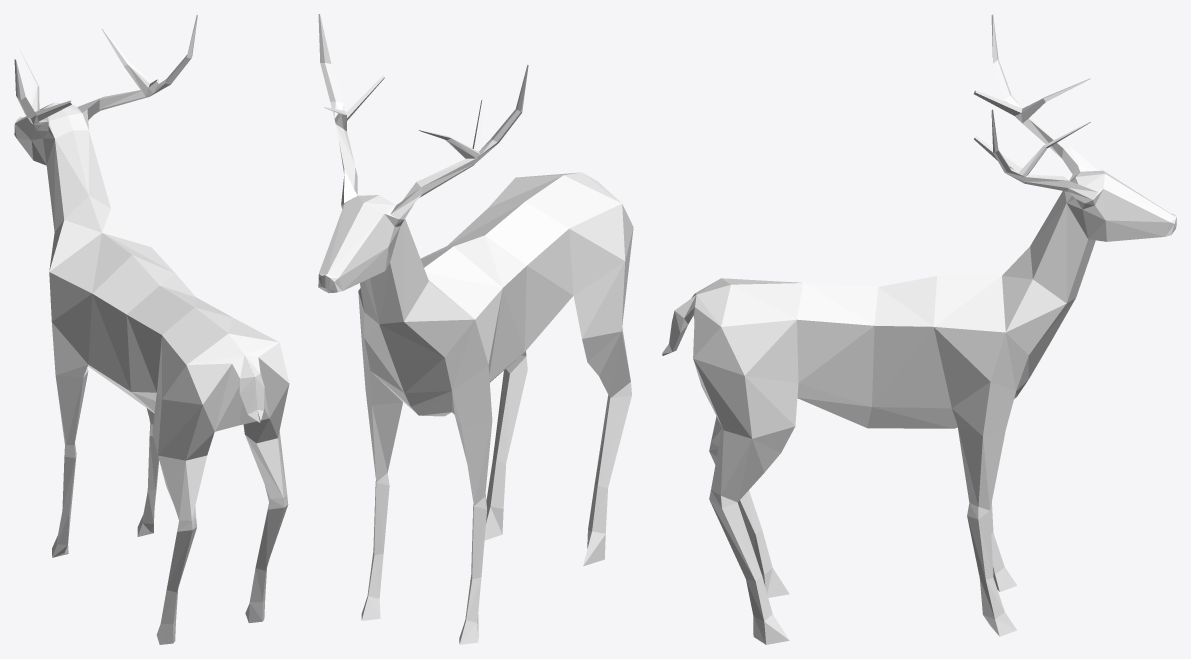
The model's file is Deer.FBX.
The picture shows the model from 3 angles, left to right: view 1: azimuth 30°, elevation 25°; view 2: azimuth 150°, elevation 25°; view 3: azimuth 270°, elevation 25°; orthographic projection. The views are drawn at different scales.
Parts seen in each view (by area): view 1: DEER; view 2: DEER; view 3: DEER.
Boxes of the visible parts, x1=… form: DEER: x1=14, y1=14, x2=289, y2=644; DEER: x1=318, y1=14, x2=633, y2=644; DEER: x1=662, y1=14, x2=1176, y2=644.
Bounding box in the file's own units: 24.2 × 65.42 × 54.89.
Materials: 1 (1 with a texture image).
